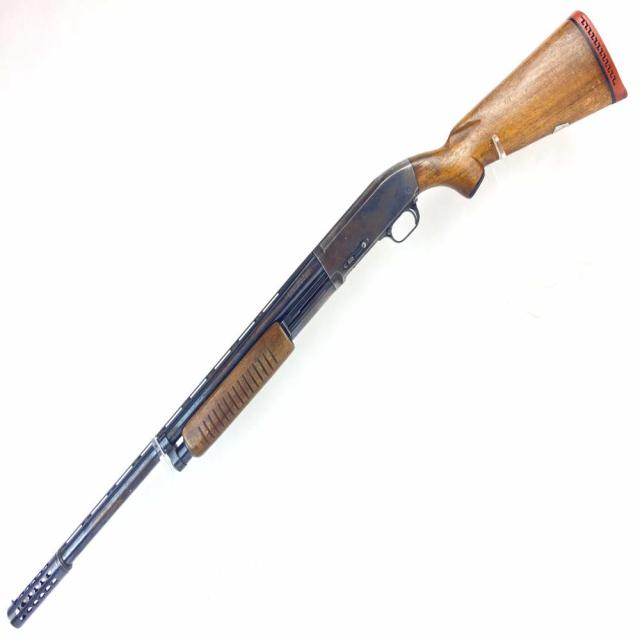ShotGun: (6, 12, 630, 633)
